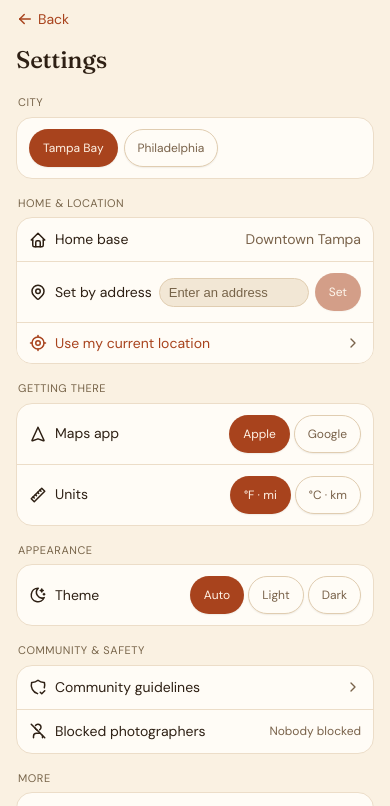
it: Settings — set home by typing an address › shows an error and keeps the old home when the address is not found
This screenshot has width=390, height=806.
Type "asdfqwer nowhere" into the field with placeholder "Enter an address". click: (234, 292)
box: [159,278,309,306]
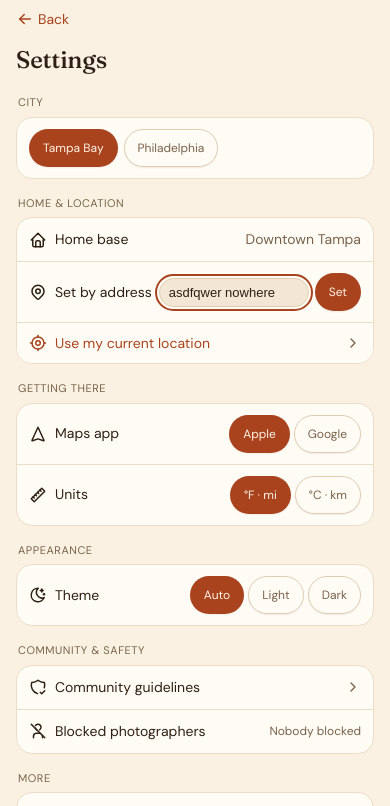
Click the button "Set". click: (338, 292)
box: [315,273,361,311]
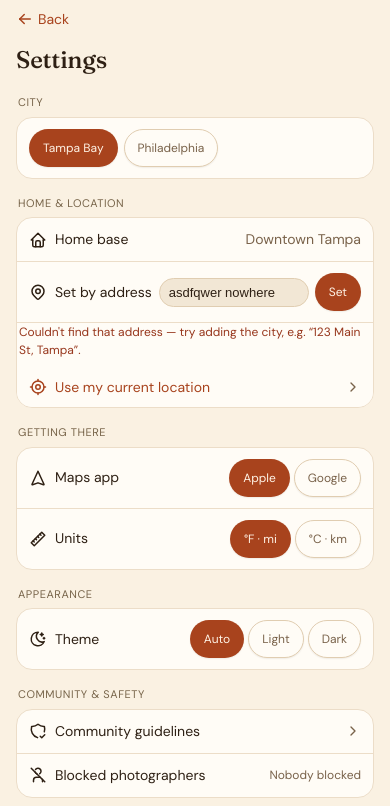
Now the text "Couldn't find" is shown, box [19,324,360,358]
